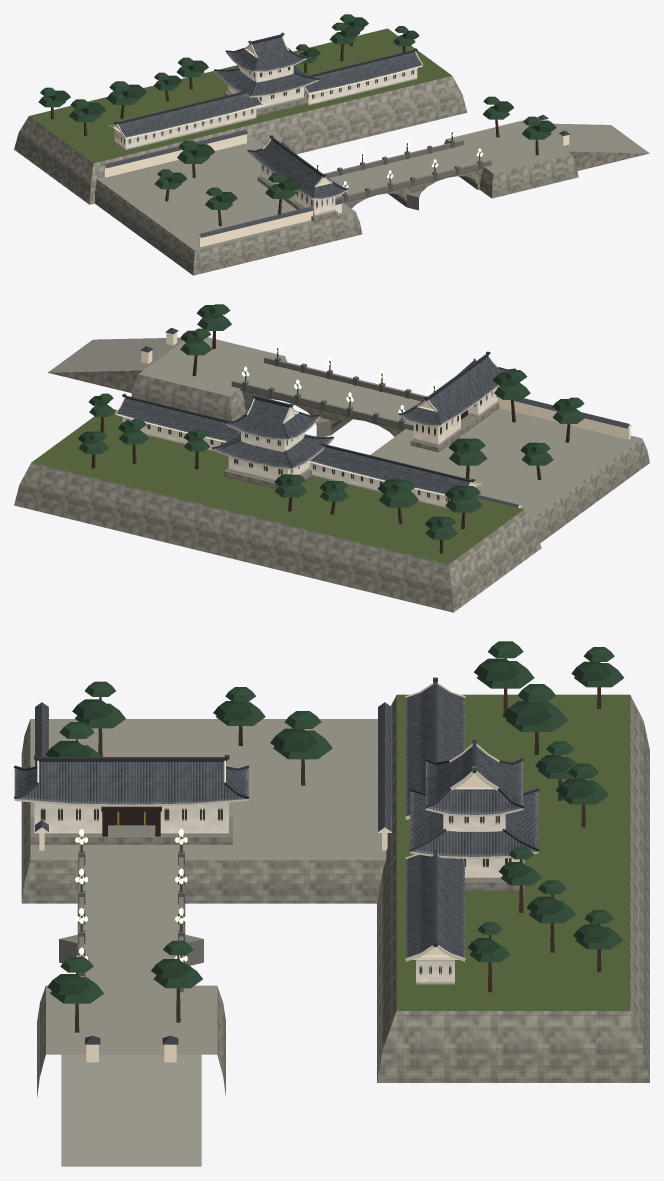
File: imperial_palace_nijubashi.glb
3 views of the same model, one above another, from view 1: azimuth 30°, elevation 25°; view 2: azimuth 150°, elevation 25°; view 3: azimuth 270°, elevation 25° (orthographic). The views are drawn at different scales.
Visible parts, largest first — view 1: imperial_palace_nijubashi; view 2: imperial_palace_nijubashi; view 3: imperial_palace_nijubashi.
Part boxes in pixels (x1,y1,x2,y2): imperial_palace_nijubashi: [14, 14, 649, 275]; imperial_palace_nijubashi: [14, 304, 649, 612]; imperial_palace_nijubashi: [14, 641, 649, 1166].
Size of the model in its own units: 127 by 25.06 by 81.61.
3 materials, 3 textured.
